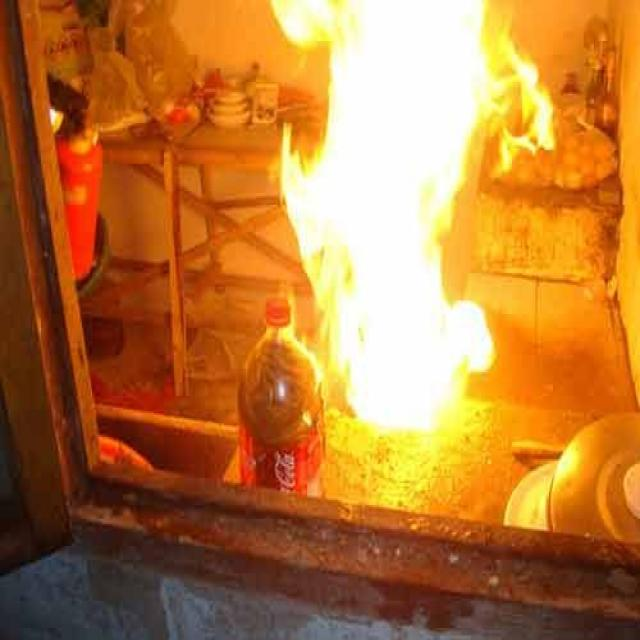fire: (273, 0, 522, 468)
